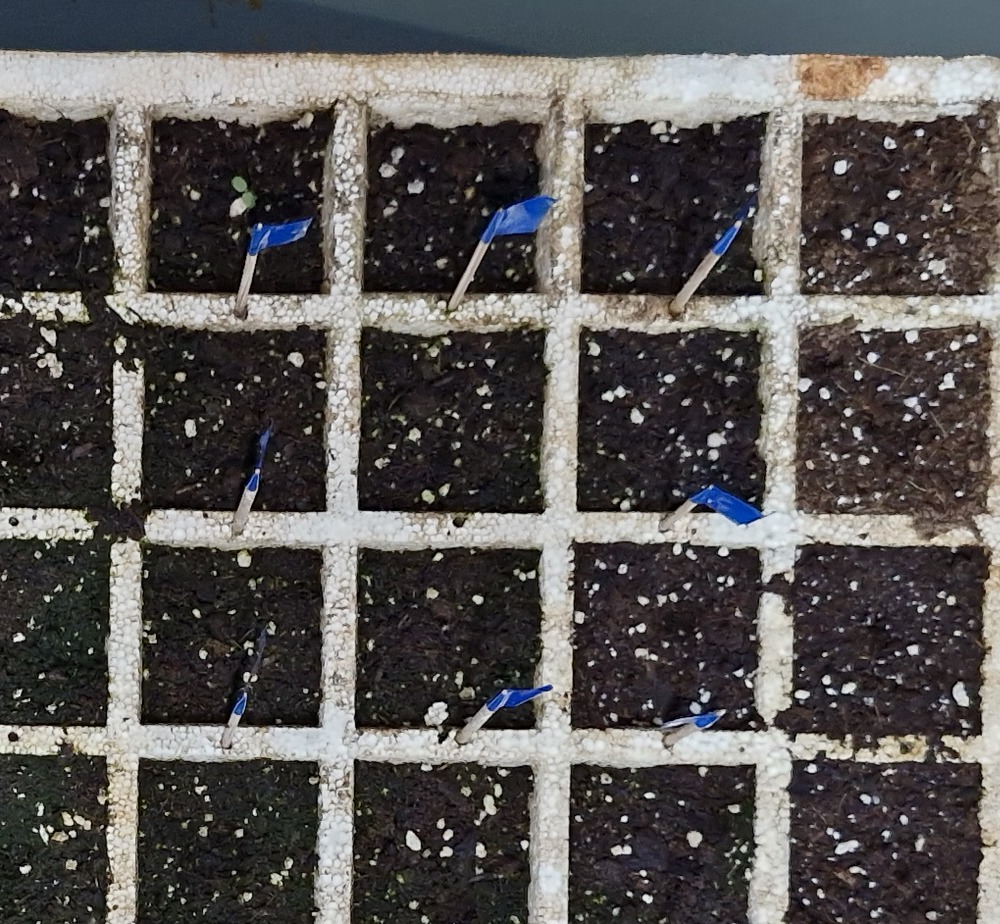Folha: (242, 191, 256, 208), (232, 177, 248, 191)
Germinacao: (232, 177, 257, 208)
